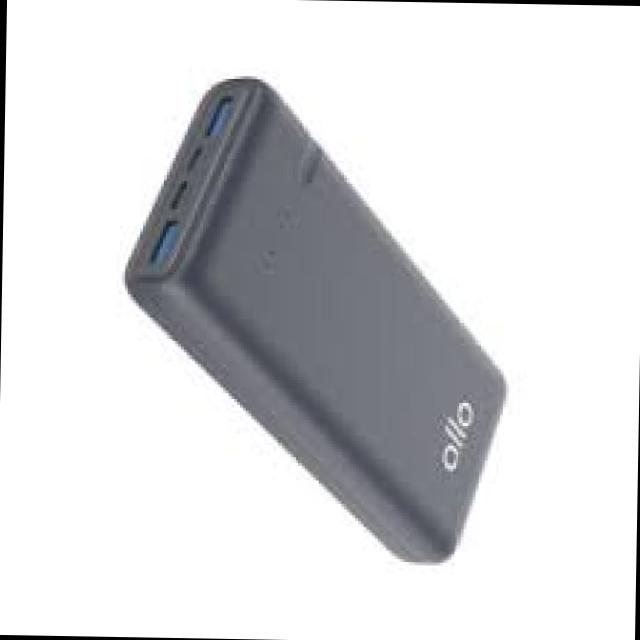portable-charger: (114, 71, 518, 574)
